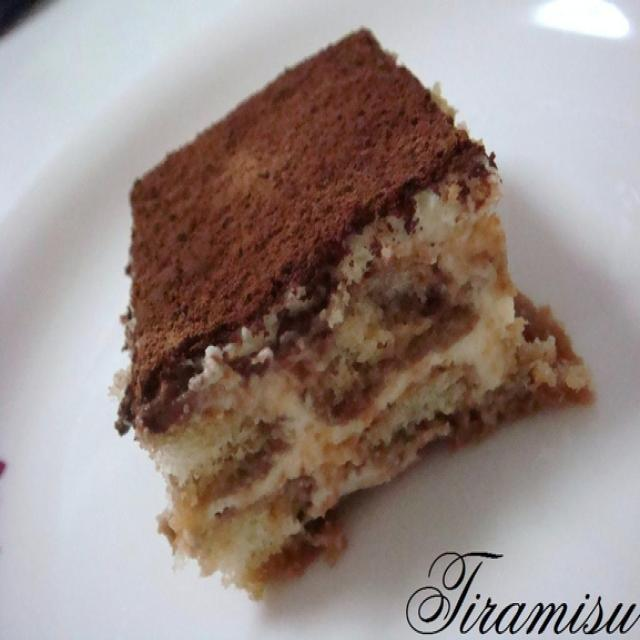蛋糕甜品: (43, 4, 619, 618)
